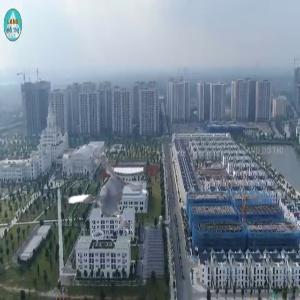drone: (34, 133, 158, 257)
